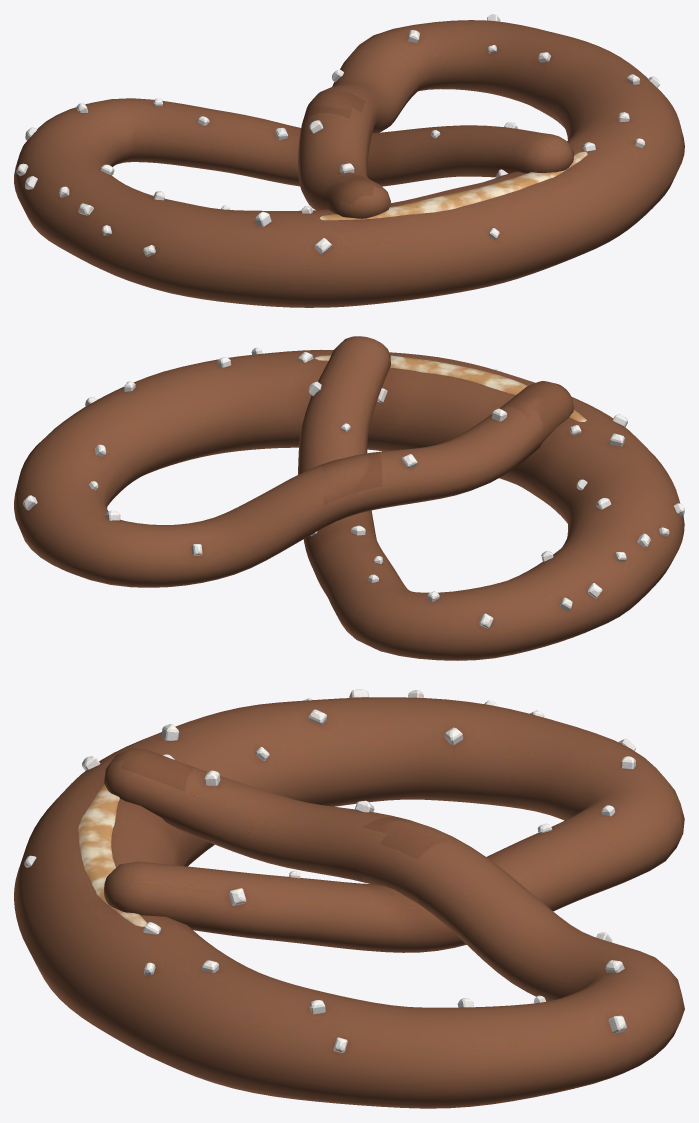
File: pretzel.glb
3 views of the same model, one above another, from view 1: azimuth 30°, elevation 25°; view 2: azimuth 150°, elevation 25°; view 3: azimuth 270°, elevation 25° (orthographic). The views are drawn at different scales.
Parts seen in each view (by area): view 1: pretzel_body; view 2: pretzel_body; view 3: pretzel_body.
Boxes of the visible parts, bbox=[...] form: pretzel_body: bbox=[14, 14, 684, 307]; pretzel_body: bbox=[14, 336, 684, 660]; pretzel_body: bbox=[14, 689, 684, 1108].
Size of the model in its own units: 0.1284 by 0.023 by 0.1.
1 material, 1 textured.
